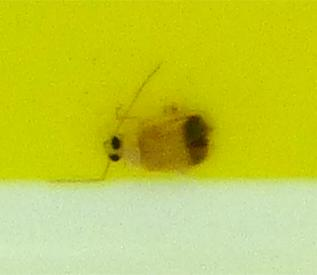Coleoptera: (100, 100, 217, 175)
